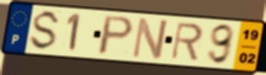1: (65, 13, 81, 54)
9: (205, 23, 237, 66)
N: (130, 16, 170, 61)
P: (95, 15, 136, 57)
R: (169, 21, 205, 62)
S: (27, 9, 63, 52)
